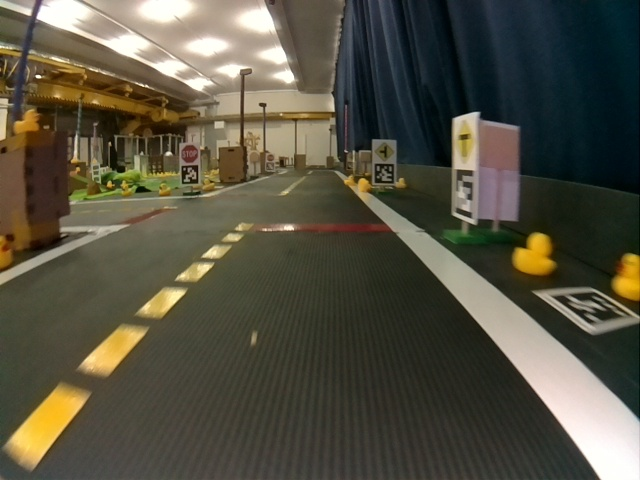Duckie: (514, 233, 552, 276), (614, 254, 636, 300), (15, 110, 39, 129), (360, 178, 370, 191), (160, 185, 170, 195), (396, 178, 406, 187), (344, 175, 353, 184), (121, 186, 129, 195)
Intersection sign: (453, 120, 474, 165), (374, 141, 395, 161)
QR code: (534, 288, 637, 331), (452, 172, 476, 221), (374, 164, 394, 185), (185, 165, 199, 185)
Stop sign: (181, 144, 200, 163)
